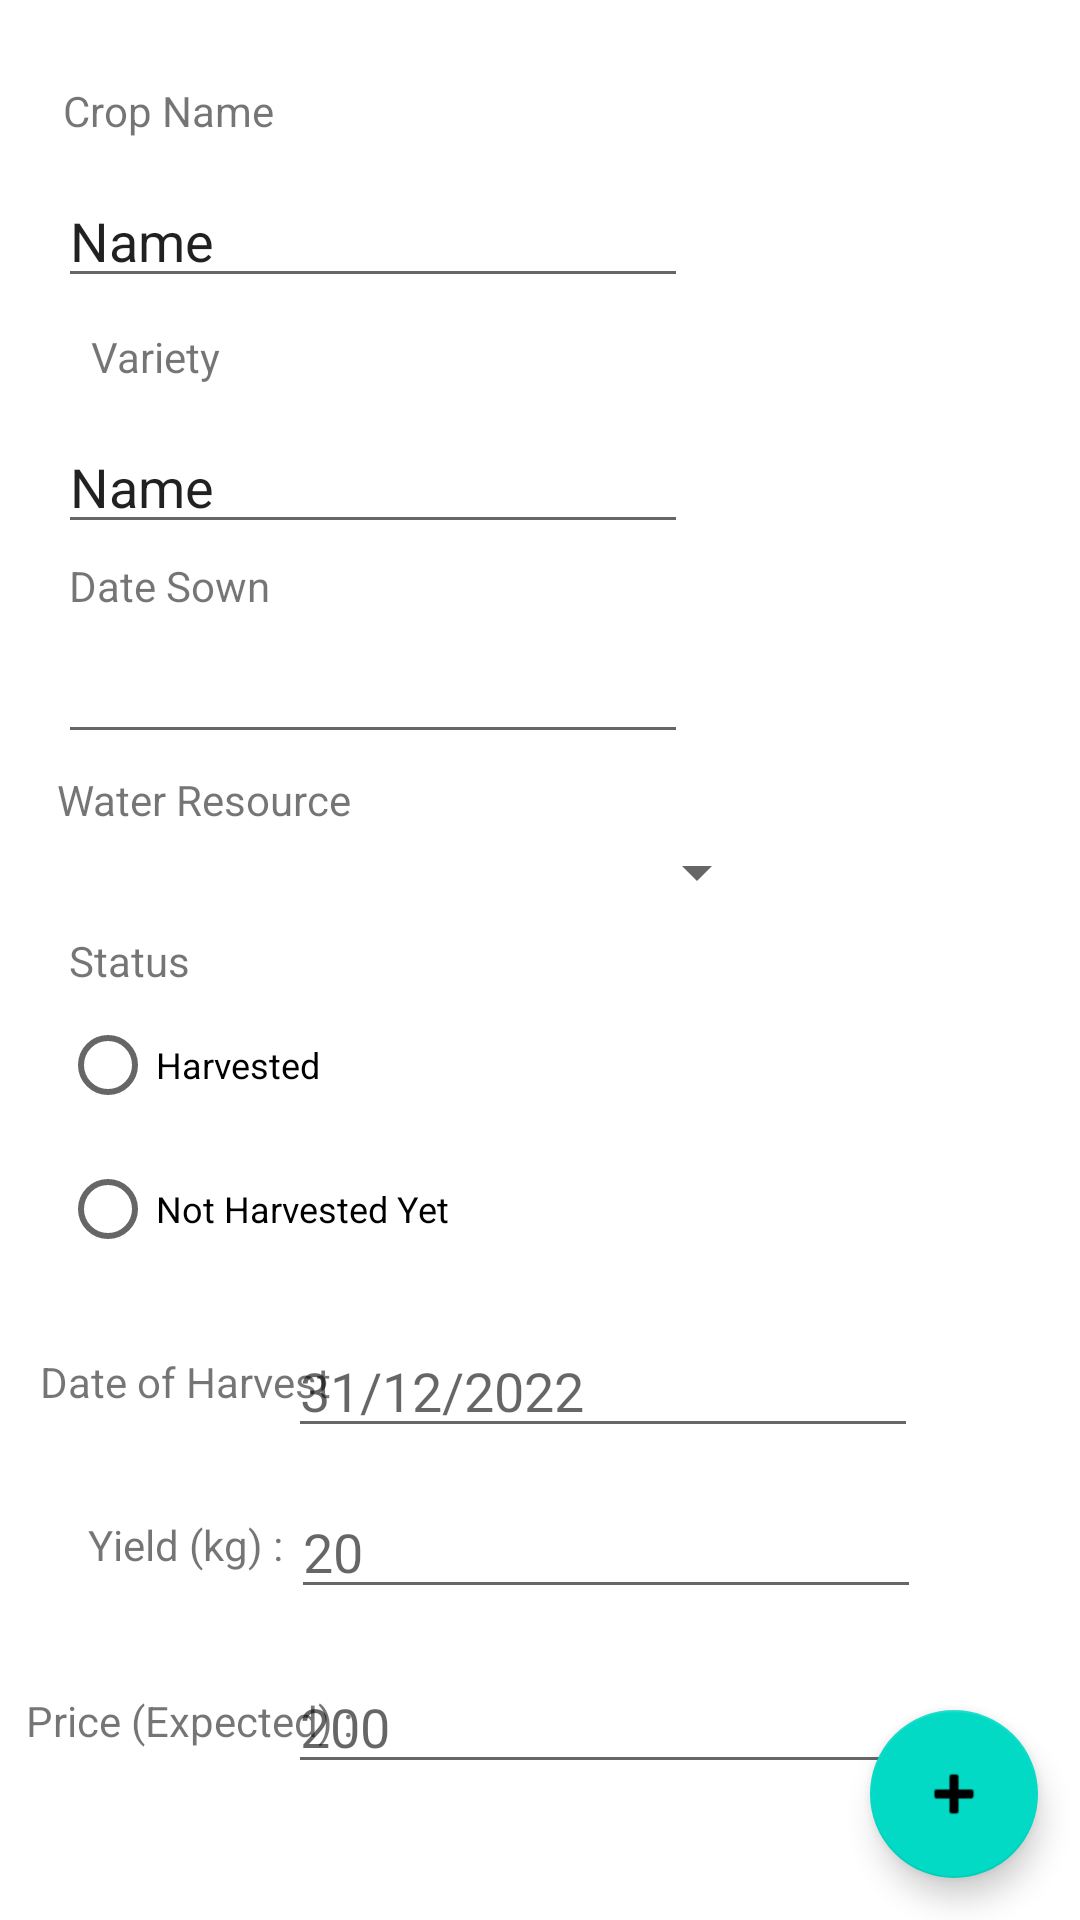

Where to tap for icons on this 1080×1920 app screen, as (x,y):
add: (954,1794)
